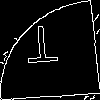T: (25, 24, 60, 74)
